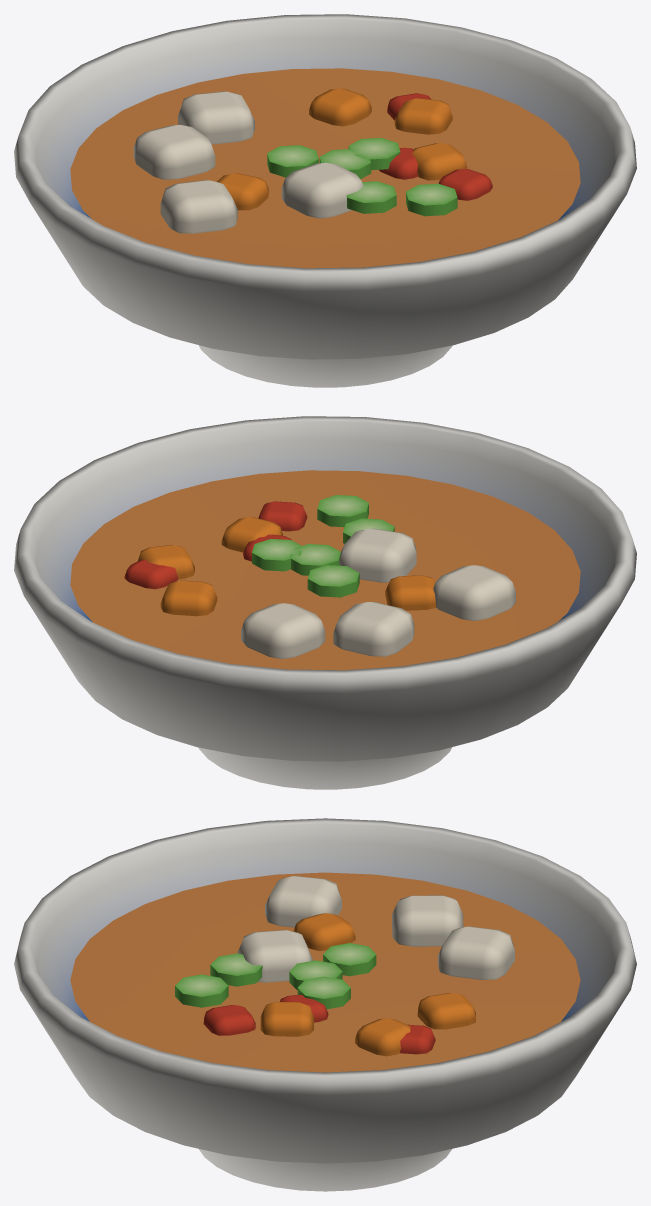
Rendered from item_dish_sailor_stew.glb.
3 renders of one model, top to bottom at view 1: azimuth 30°, elevation 25°; view 2: azimuth 150°, elevation 25°; view 3: azimuth 270°, elevation 25°, orthographic.
Parts seen in each view (by area): view 1: item_dish_sailor_stew_main, item_dish_sailor_stew_gloss; view 2: item_dish_sailor_stew_main, item_dish_sailor_stew_gloss; view 3: item_dish_sailor_stew_main, item_dish_sailor_stew_gloss.
Part boxes in pixels (<box>): item_dish_sailor_stew_main: <box>14,14,636,387</box>; item_dish_sailor_stew_gloss: <box>70,68,580,268</box>; item_dish_sailor_stew_main: <box>14,416,636,789</box>; item_dish_sailor_stew_gloss: <box>70,470,580,670</box>; item_dish_sailor_stew_main: <box>14,818,636,1191</box>; item_dish_sailor_stew_gloss: <box>70,872,580,1072</box>.
Size of the model in its own units: 0.21 by 0.07 by 0.21.
